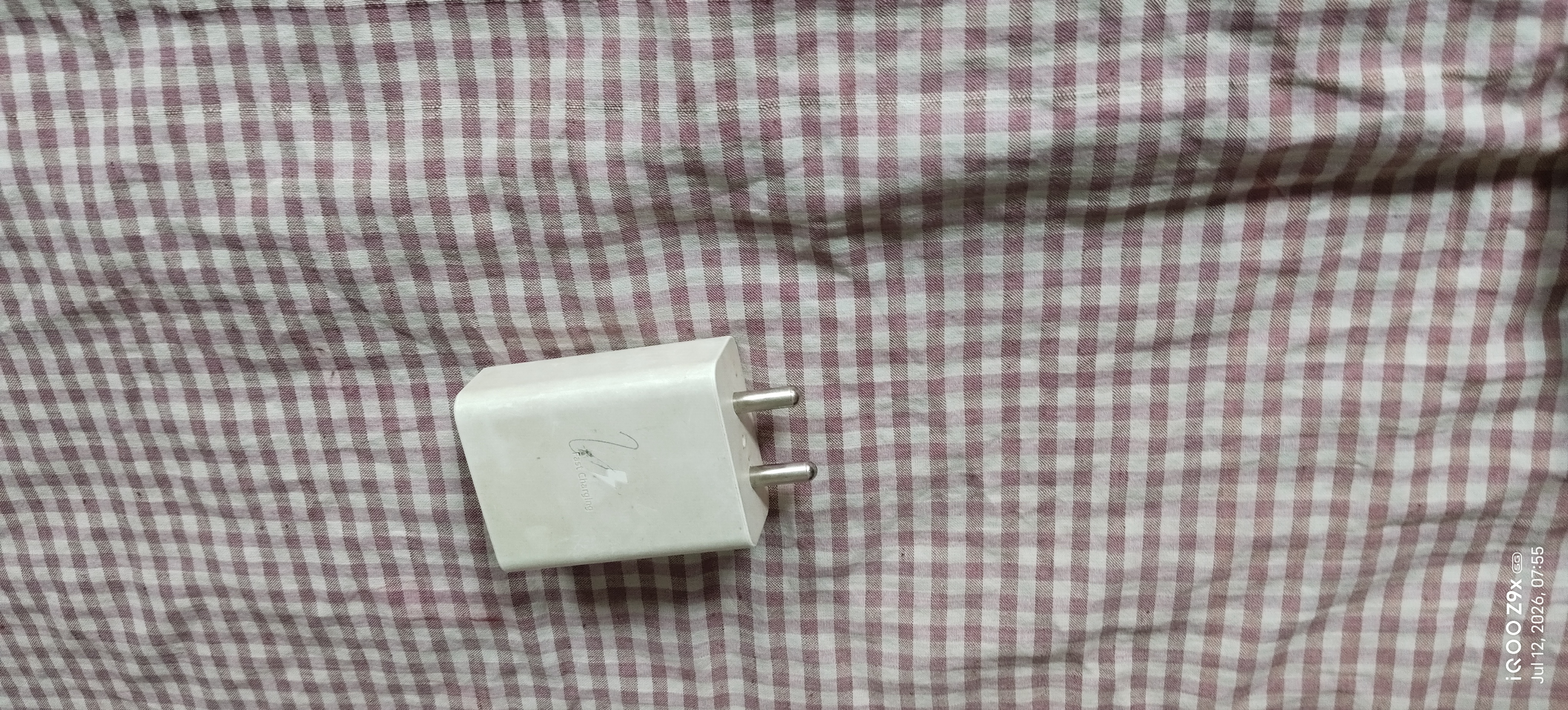charger: (438, 315, 820, 592)
